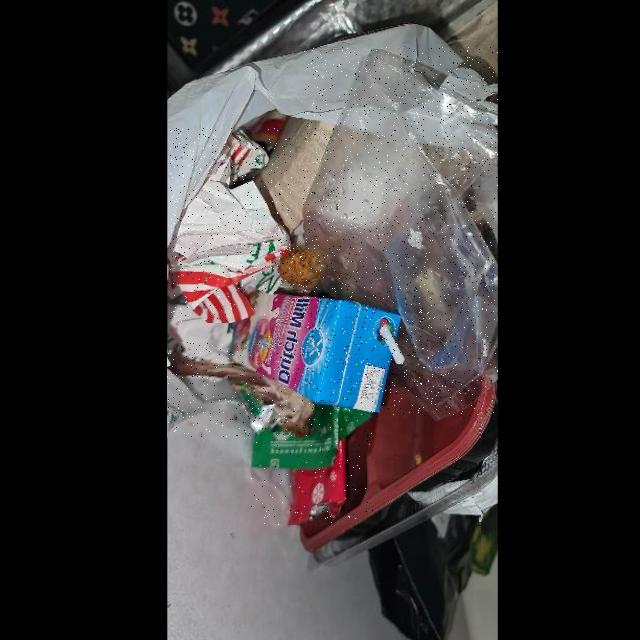biowaste: (168, 342, 316, 437), (281, 246, 326, 289)
paper: (170, 128, 292, 322), (233, 291, 404, 413)
plastic: (303, 47, 498, 417)
wrapper: (252, 403, 373, 524)
